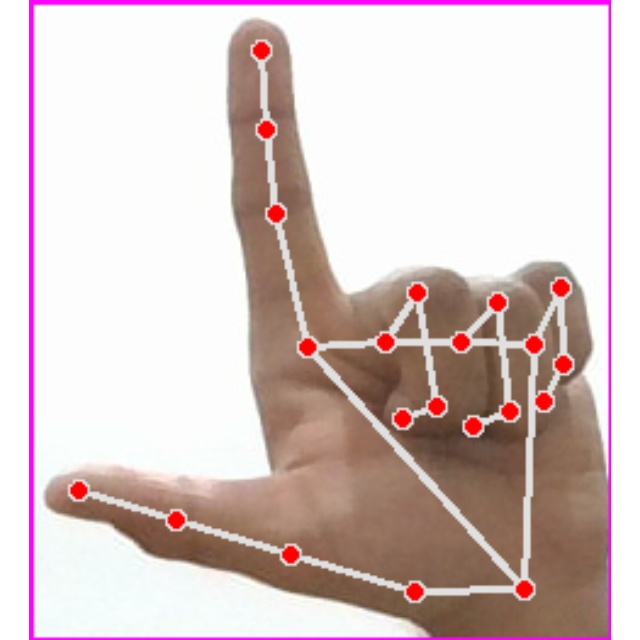L: (29, 0, 611, 640)
